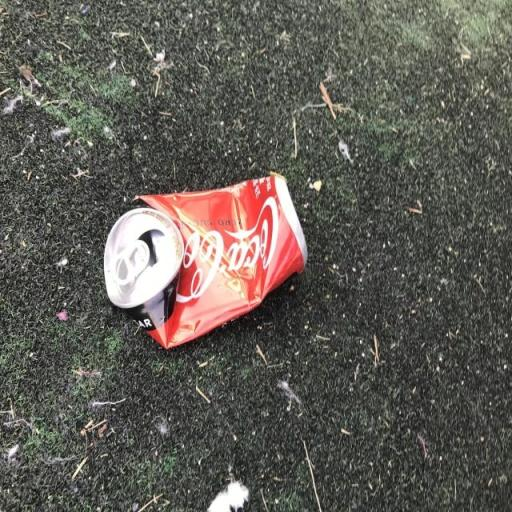metal: (80, 166, 338, 358)
